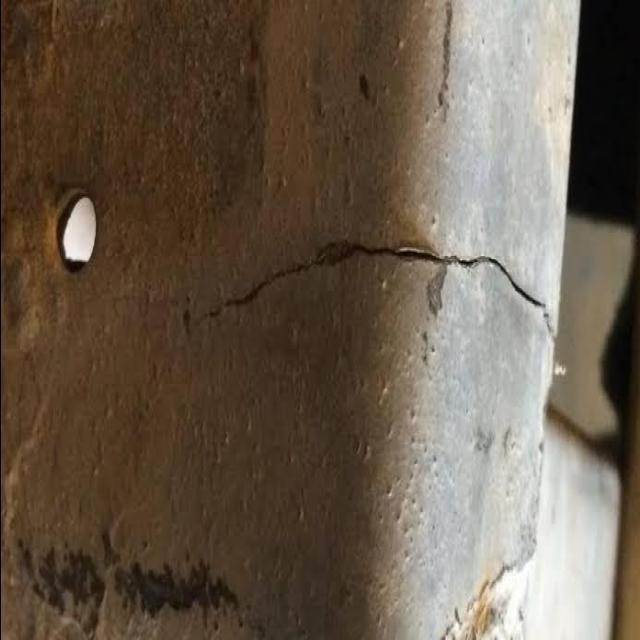defect: (184, 240, 559, 346)
